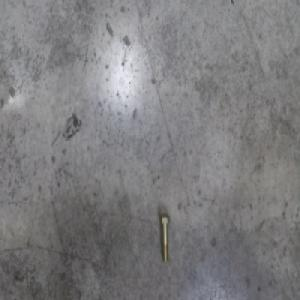Bolt: (159, 214, 171, 264)
